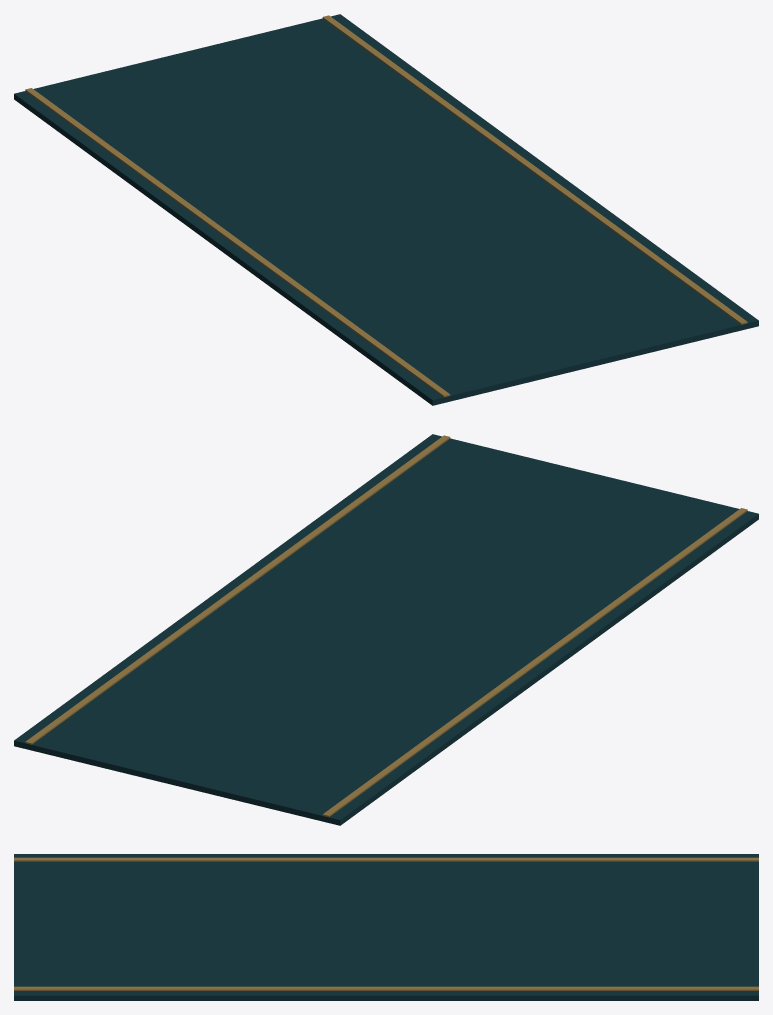
File: WP_D06_carpet_straight_4m_v02.glb
The picture shows the model from 3 angles, top to bottom: view 1: azimuth 30°, elevation 25°; view 2: azimuth 150°, elevation 25°; view 3: azimuth 270°, elevation 25°; orthographic projection. The views are drawn at different scales.
Parts seen in each view (by area): view 1: Carpet; view 2: Carpet; view 3: Carpet.
Boxes of the visible parts, x1=… form: Carpet: x1=14, y1=14, x2=758, y2=405; Carpet: x1=14, y1=434, x2=758, y2=825; Carpet: x1=14, y1=854, x2=758, y2=1000.
Bounding box in the file's own units: 1.8 × 0.038 × 4.
